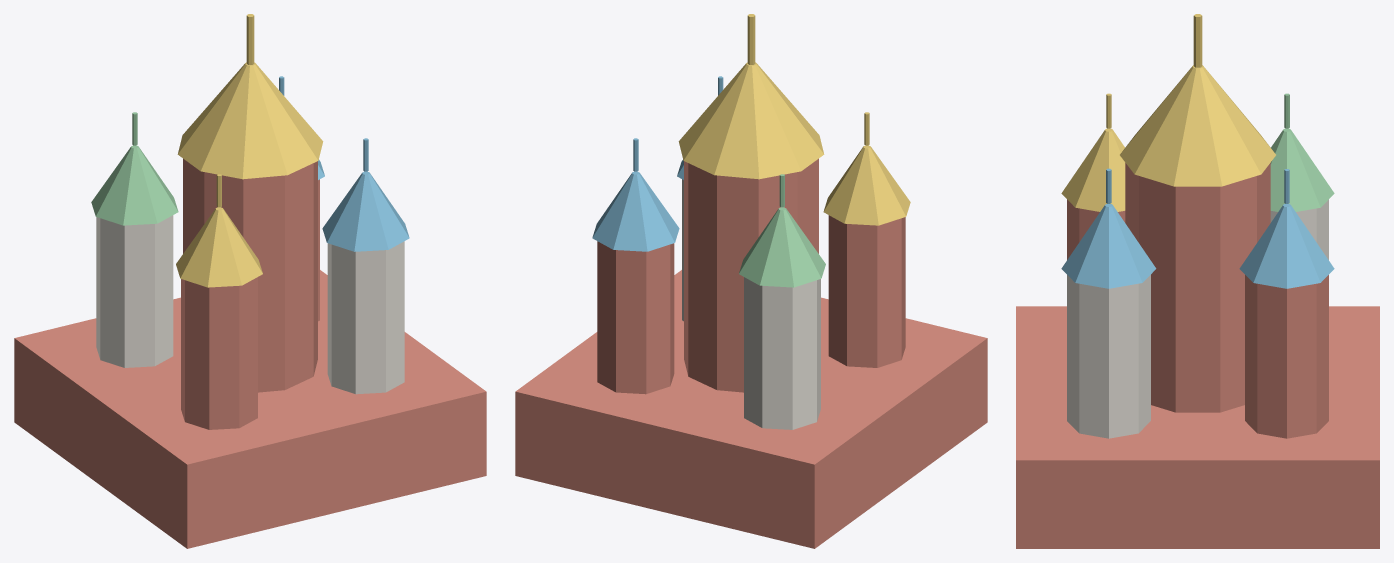
The model's file is stbasil.glb.
3 renders of one model, left to right at view 1: azimuth 30°, elevation 25°; view 2: azimuth 150°, elevation 25°; view 3: azimuth 270°, elevation 25°, orthographic. The views are drawn at different scales.
Parts seen in each view (by area): view 1: sb_base, sb_main, sb_t3, sb_t1, sb_t2, sb_mdome, sb_d1, sb_d3, sb_d2; view 2: sb_base, sb_main, sb_t2, sb_t0, sb_t1, sb_mdome, sb_d2, sb_d0, sb_d1; view 3: sb_base, sb_main, sb_t3, sb_t0, sb_mdome, sb_d3, sb_d0, sb_d1, sb_d2, sb_t1, sb_t2, sb_mtip.
Part boxes in pixels (x1,y1,x2,y2): sb_base: (14, 270, 486, 548); sb_main: (183, 158, 317, 392); sb_t3: (327, 241, 404, 394); sb_t1: (96, 215, 173, 367); sb_t2: (181, 277, 257, 429); sb_mdome: (177, 62, 323, 179); sb_d1: (91, 145, 178, 225); sb_d3: (322, 171, 409, 251); sb_d2: (176, 207, 262, 287); sb_base: (515, 270, 987, 548); sb_main: (684, 158, 818, 392); sb_t2: (828, 215, 905, 367); sb_t0: (597, 241, 674, 394); sb_t1: (744, 277, 820, 429); sb_mdome: (678, 62, 824, 179); sb_d2: (823, 145, 910, 225); sb_d0: (592, 171, 679, 251); sb_d1: (739, 207, 825, 287); sb_base: (1016, 306, 1379, 548); sb_main: (1125, 163, 1270, 412); sb_t3: (1067, 275, 1150, 438); sb_t0: (1245, 275, 1328, 438); sb_mdome: (1120, 65, 1275, 186); sb_d3: (1061, 204, 1156, 288); sb_d0: (1239, 204, 1334, 288); sb_d1: (1270, 128, 1334, 211); sb_d2: (1061, 128, 1125, 211); sb_t1: (1270, 199, 1328, 259); sb_t2: (1067, 199, 1125, 259); sb_mtip: (1193, 14, 1202, 67).
Bounding box in the file's own units: 26 × 36 × 26.
